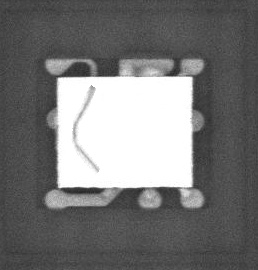DIE_INK: (68, 89, 95, 182)
